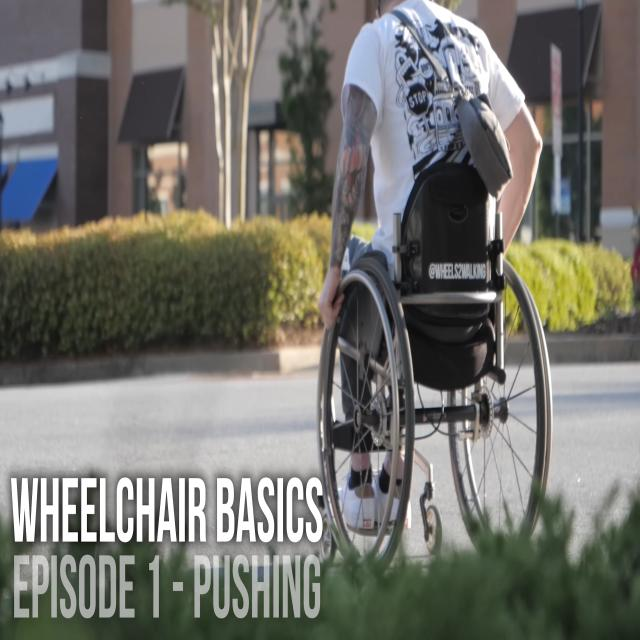wheelchairs: (311, 158, 552, 581)
